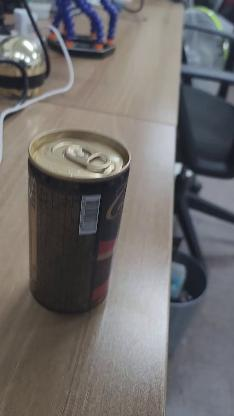Can: (25, 129, 127, 319)
